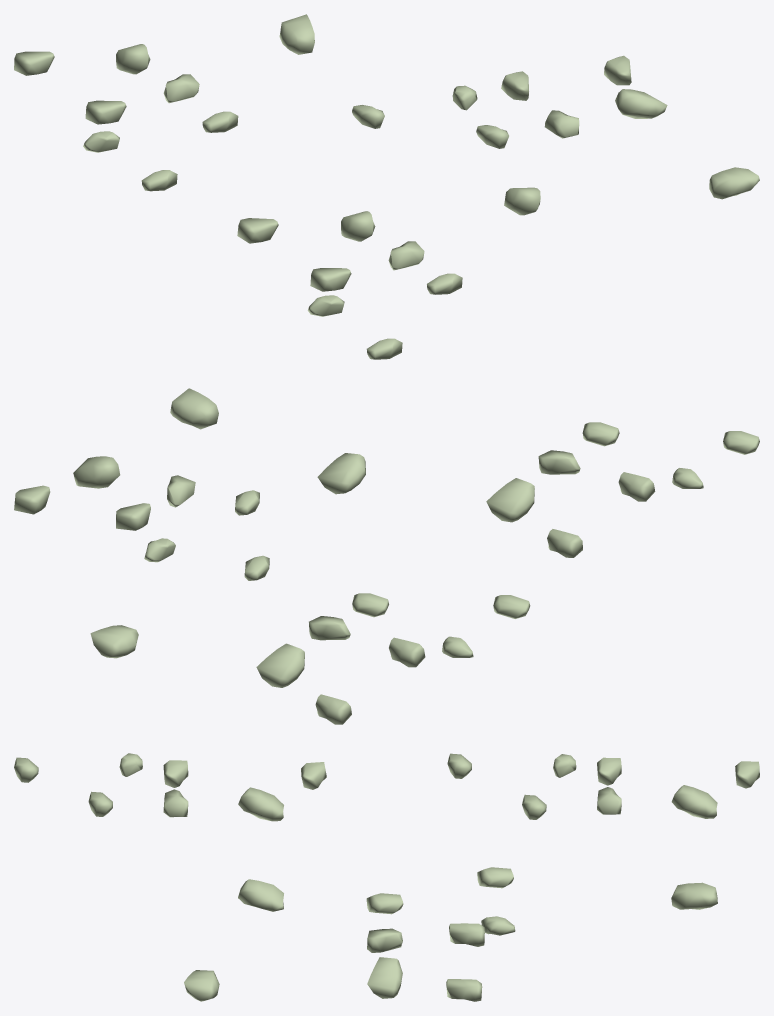
Rendered from Rubble_04C_Lod0.fbx.
3 renders of one model, top to bottom at view 1: azimuth 30°, elevation 25°; view 2: azimuth 150°, elevation 25°; view 3: azimuth 270°, elevation 25°, orthographic. The views are drawn at different scales.
Visible parts, largest first — view 1: Rubble_04C_Lod0; view 2: Rubble_04C_Lod0; view 3: Rubble_04C_Lod0.
Boxes of the visible parts, x1=… form: Rubble_04C_Lod0: x1=14, y1=14, x2=759, y2=359; Rubble_04C_Lod0: x1=14, y1=388, x2=759, y2=724; Rubble_04C_Lod0: x1=14, y1=753, x2=759, y2=1001.
Bounding box in the file's own units: 426 × 41.81 × 577.
